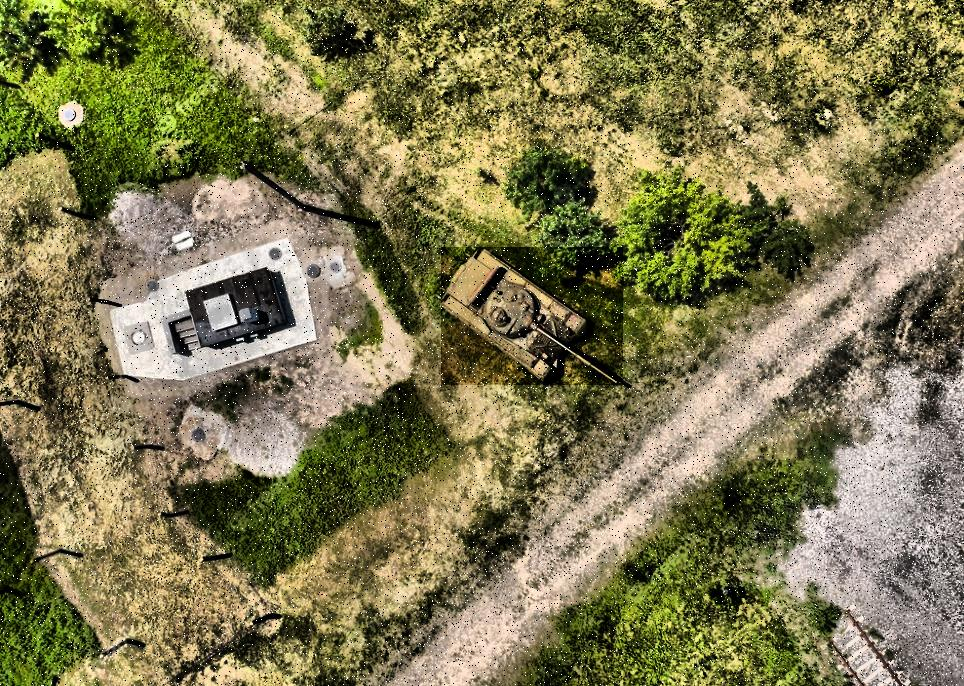military-vehicle: (441, 248, 623, 386)
